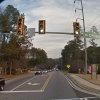Car: (31, 65, 58, 77)
